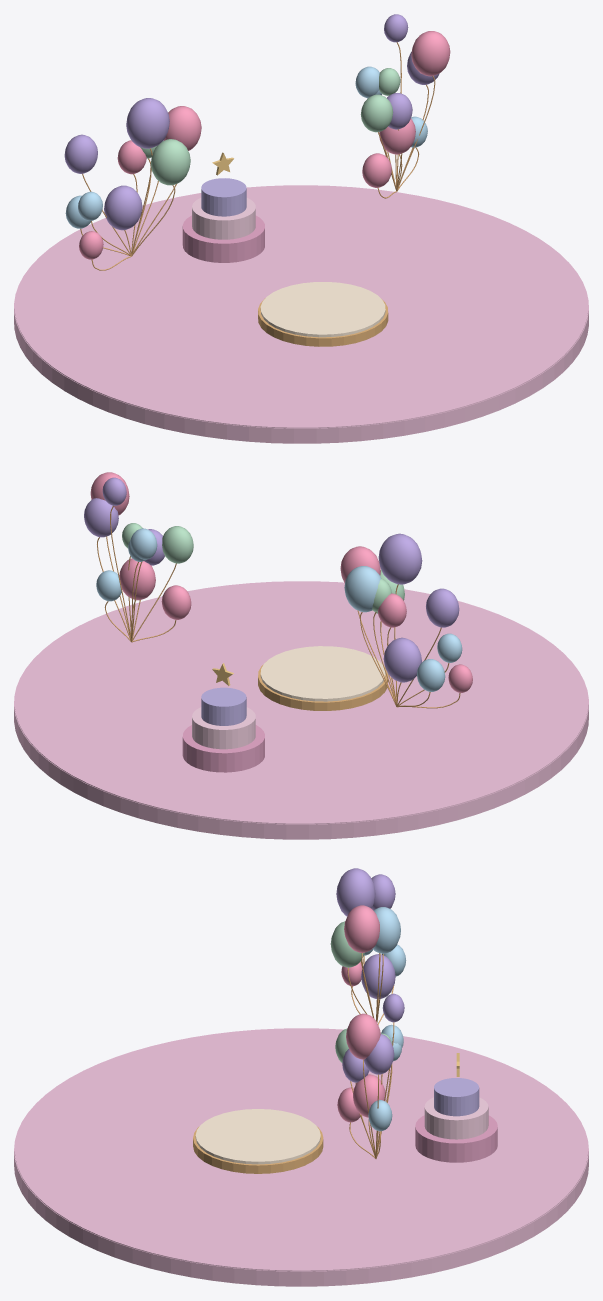
The model's file is festa.glb.
The picture shows the model from 3 angles, top to bottom: view 1: azimuth 30°, elevation 25°; view 2: azimuth 150°, elevation 25°; view 3: azimuth 270°, elevation 25°; orthographic projection.
Parts seen in each view (by area): view 1: Diorama piping.002, Diorama base.002, Look pedestal.002, Birthday cake tier, Party balloon.010, Birthday cake tier.001, Birthday cake tier.002, Look pedestal trim.002, Party balloon.007, Party balloon.015, Party balloon.002, Party balloon (+10 smaller); view 2: Diorama piping.002, Diorama base.002, Look pedestal.002, Birthday cake tier, Party balloon.010, Birthday cake tier.001, Birthday cake tier.002, Look pedestal trim.002, Party balloon.002, Party balloon.009, Party balloon.019, Party balloon.017 (+12 smaller); view 3: Diorama piping.002, Diorama base.002, Look pedestal.002, Birthday cake tier, Birthday cake tier.001, Birthday cake tier.002, Look pedestal trim.002, Party balloon.010, Party balloon, Party balloon.015, Party balloon.002, Party balloon.009 (+7 smaller).
Part boxes in pixels (x1=…): Diorama piping.002: x1=14, y1=185, x2=588, y2=428; Diorama base.002: x1=14, y1=273, x2=588, y2=443; Look pedestal.002: x1=260, y1=282, x2=385, y2=337; Birthday cake tier: x1=182, y1=215, x2=264, y2=262; Party balloon.010: x1=126, y1=98, x2=169, y2=148; Birthday cake tier.001: x1=192, y1=198, x2=255, y2=239; Birthday cake tier.002: x1=201, y1=178, x2=246, y2=216; Look pedestal trim.002: x1=258, y1=298, x2=388, y2=346; Party balloon.007: x1=150, y1=139, x2=190, y2=185; Party balloon.015: x1=411, y1=31, x2=450, y2=76; Party balloon.002: x1=104, y1=185, x2=142, y2=230; Party balloon: x1=163, y1=106, x2=201, y2=150; Diorama piping.002: x1=14, y1=581, x2=588, y2=824; Diorama base.002: x1=14, y1=666, x2=588, y2=839; Look pedestal.002: x1=260, y1=646, x2=385, y2=701; Birthday cake tier: x1=182, y1=725, x2=264, y2=772; Party balloon.010: x1=378, y1=533, x2=422, y2=584; Birthday cake tier.001: x1=192, y1=707, x2=255, y2=749; Birthday cake tier.002: x1=201, y1=687, x2=246, y2=725; Look pedestal trim.002: x1=258, y1=663, x2=388, y2=710; Party balloon.002: x1=383, y1=637, x2=421, y2=682; Party balloon.009: x1=344, y1=566, x2=380, y2=612; Party balloon.019: x1=119, y1=558, x2=155, y2=600; Party balloon.017: x1=84, y1=498, x2=118, y2=537; Diorama piping.002: x1=14, y1=1028, x2=588, y2=1271; Diorama base.002: x1=14, y1=1113, x2=588, y2=1286; Look pedestal.002: x1=195, y1=1109, x2=320, y2=1164; Birthday cake tier: x1=415, y1=1115, x2=497, y2=1162; Birthday cake tier.001: x1=424, y1=1097, x2=488, y2=1139; Birthday cake tier.002: x1=434, y1=1078, x2=479, y2=1116; Look pedestal trim.002: x1=193, y1=1126, x2=323, y2=1173; Party balloon.010: x1=336, y1=868, x2=375, y2=916; Party balloon: x1=344, y1=905, x2=379, y2=952; Party balloon.015: x1=346, y1=1013, x2=380, y2=1059; Party balloon.002: x1=361, y1=954, x2=395, y2=999; Party balloon.009: x1=372, y1=907, x2=400, y2=953.
Size of what is drawn, in the model's own units: 8.64 by 3.97 by 8.64.
